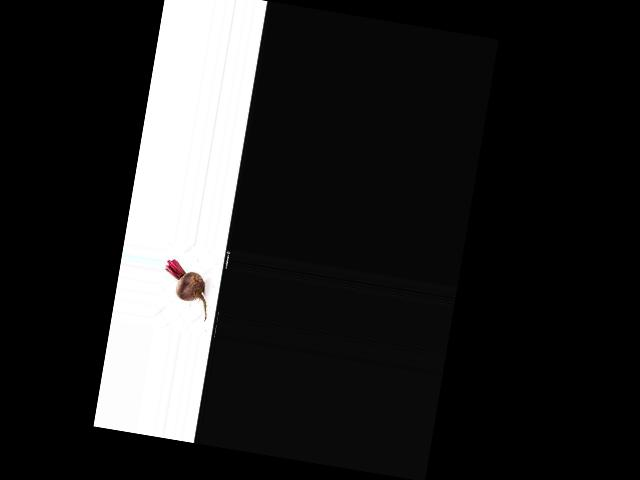beet: (158, 258, 215, 321)
